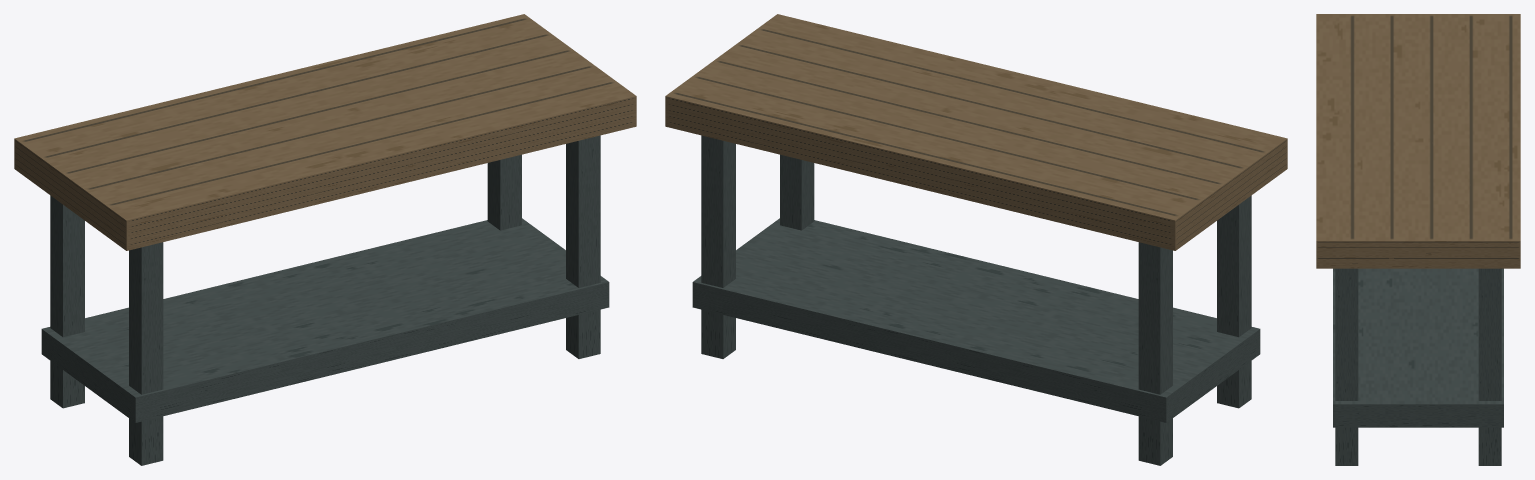
Rendered from Workbench.fbx.
The picture shows the model from 3 angles, left to right: view 1: azimuth 30°, elevation 25°; view 2: azimuth 150°, elevation 25°; view 3: azimuth 270°, elevation 25°; orthographic projection. The views are drawn at different scales.
Parts seen in each view (by area): view 1: Workbench; view 2: Workbench; view 3: Workbench.
Part boxes in pixels (x1,y1,x2,y2): Workbench: (14,14,636,465); Workbench: (665,14,1287,465); Workbench: (1316,14,1520,465).
Size of the model in its own units: 210 by 102 by 80.
